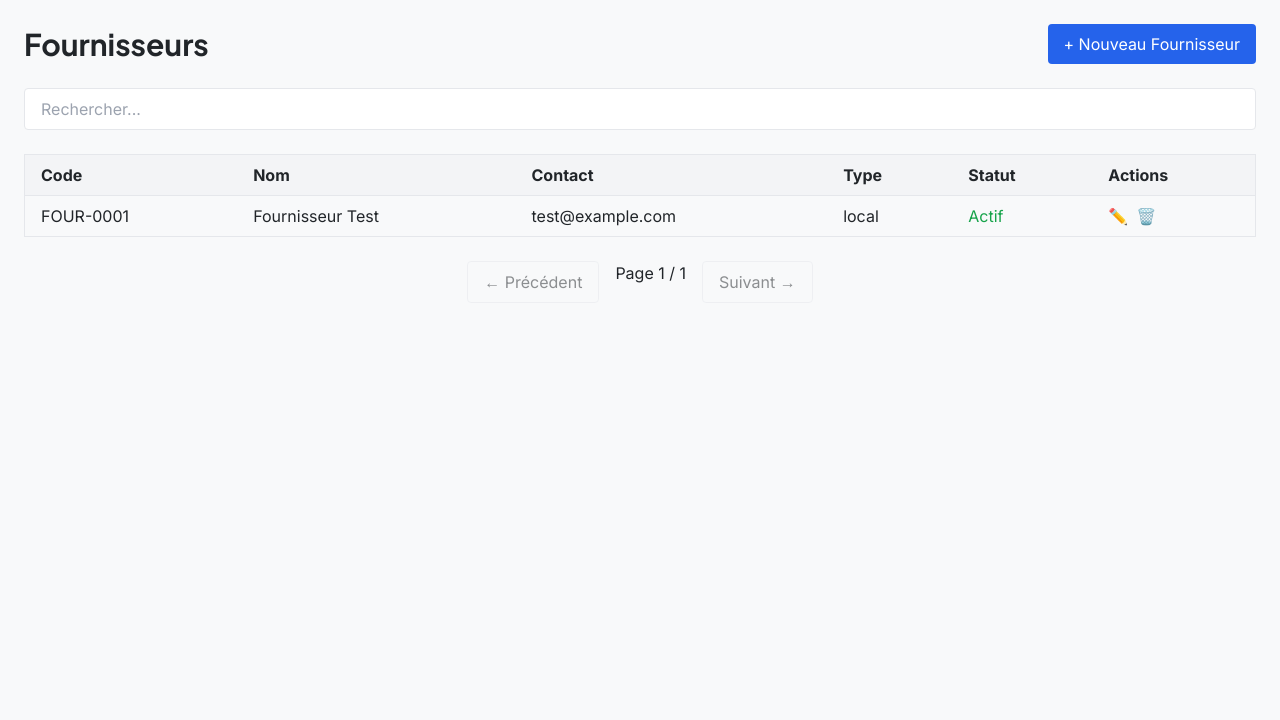
Scenario: Composant Fournisseurs › ouvre le modal de création
Expected: the text "FOUR-0001" is shown, [24,196,237,236]
What coordinates should you click on to do the following:
click the button "+ Nouveau Fournisseur"
I would click on:
 (1152, 44)
Its box is [1048,24,1256,64].
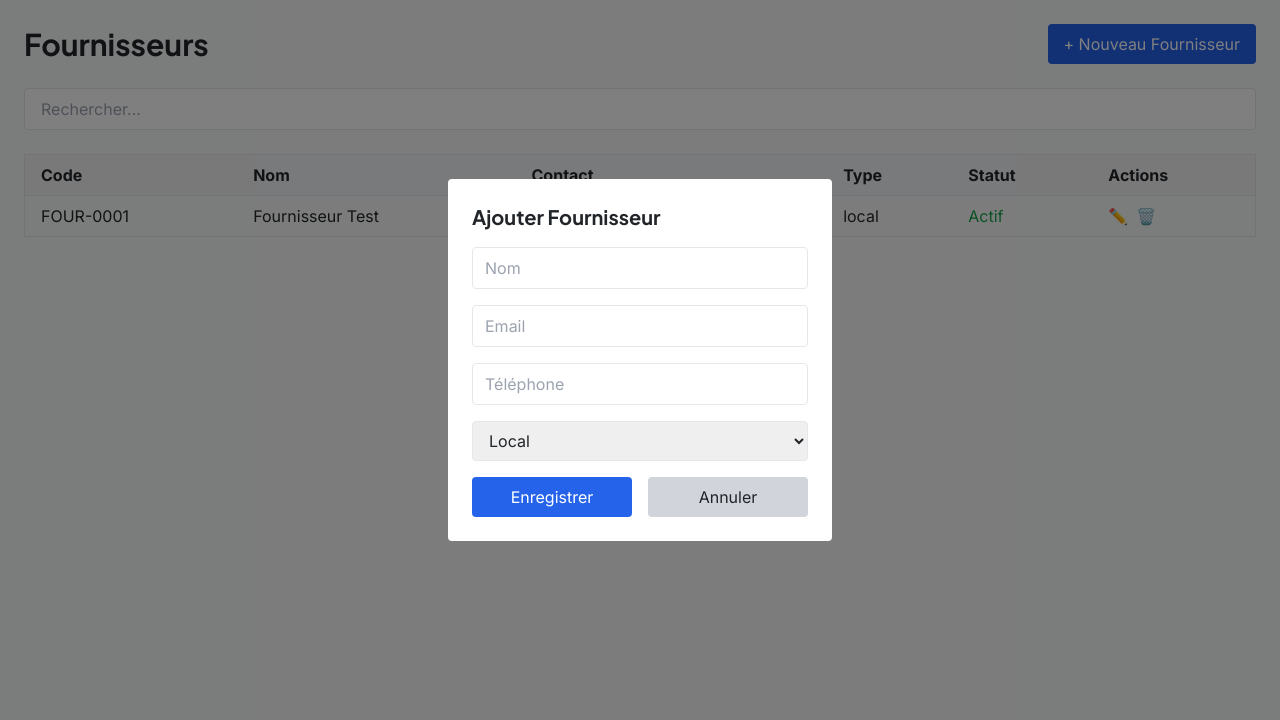
Expected: the heading "Ajouter Fournisseur" is shown, [472,204,660,229]
